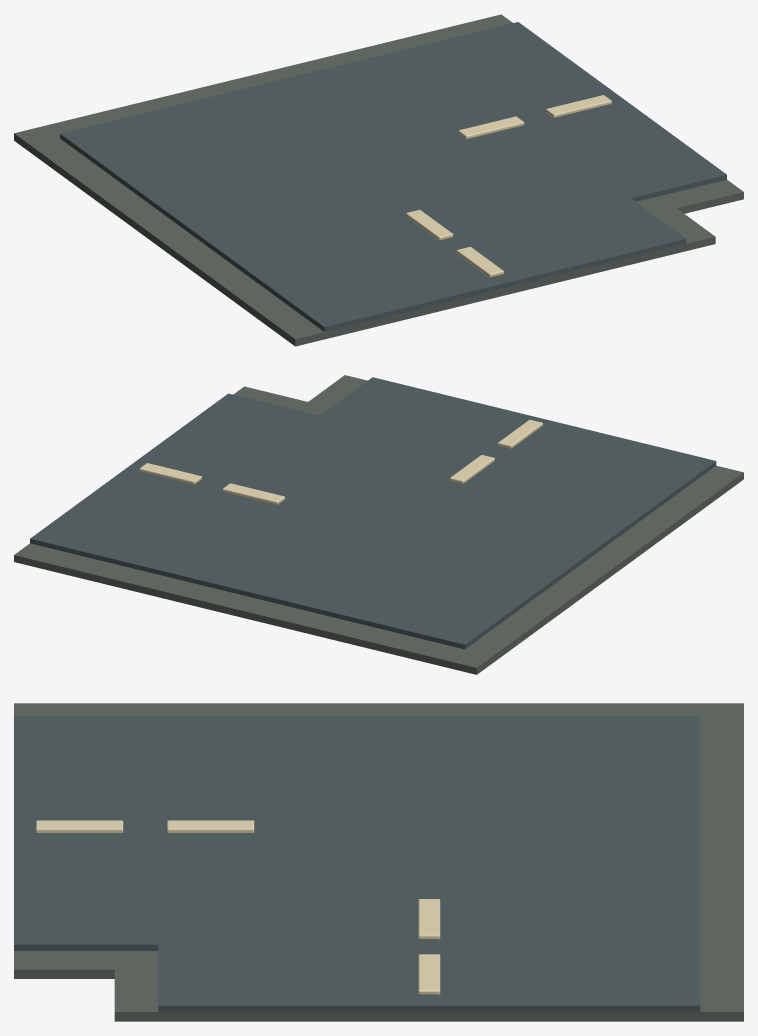
The model's file is road_corner.glb.
3 views of the same model, one above another, from view 1: azimuth 30°, elevation 25°; view 2: azimuth 150°, elevation 25°; view 3: azimuth 270°, elevation 25° (orthographic). The views are drawn at different scales.
Parts seen in each view (by area): view 1: road_corner · asphalt, road_corner · stone_dark, road_corner · road_line; view 2: road_corner · asphalt, road_corner · stone_dark, road_corner · road_line; view 3: road_corner · asphalt, road_corner · stone_dark, road_corner · road_line.
Boxes of the visible parts, x1=… form: road_corner · asphalt: x1=60, y1=22, x2=726, y2=331; road_corner · stone_dark: x1=14, y1=14, x2=743, y2=346; road_corner · road_line: x1=406, y1=95, x2=611, y2=277; road_corner · asphalt: x1=30, y1=377, x2=716, y2=649; road_corner · stone_dark: x1=14, y1=375, x2=743, y2=674; road_corner · road_line: x1=139, y1=419, x2=542, y2=504; road_corner · asphalt: x1=14, y1=715, x2=700, y2=1011; road_corner · stone_dark: x1=14, y1=703, x2=743, y2=1021; road_corner · road_line: x1=36, y1=820, x2=440, y2=994.
Bounding box in the file's own units: 0.835 × 0.027 × 0.835.
